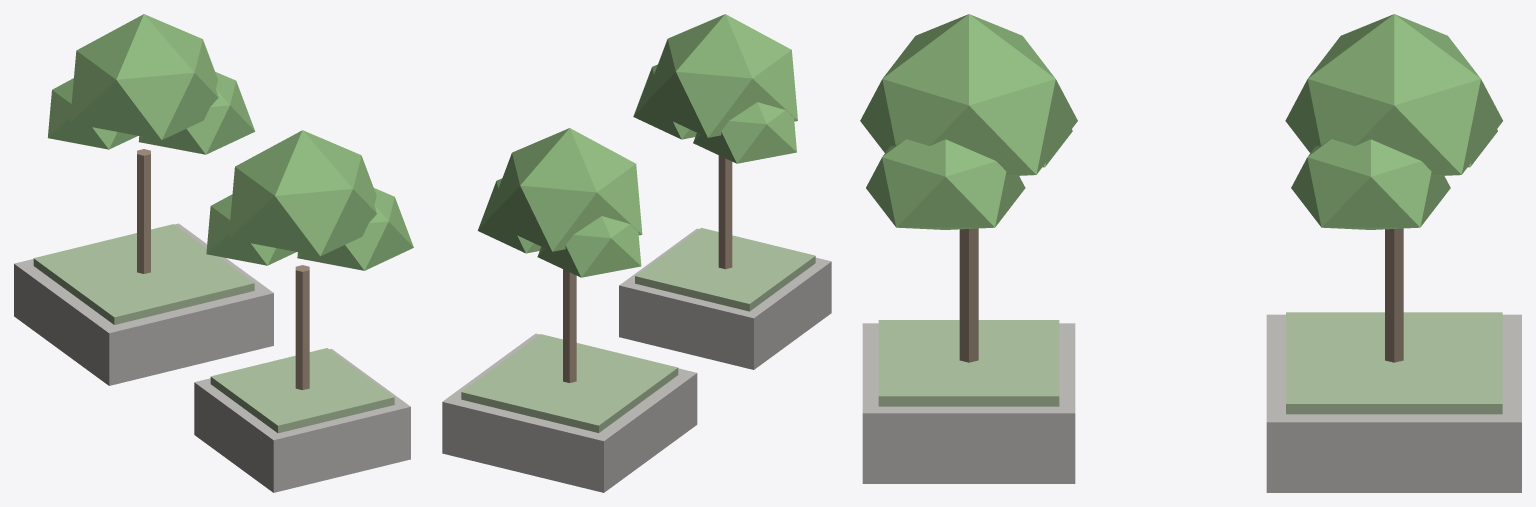
Rendered from 17_street_props-08.glb.
The picture shows the model from 3 angles, left to right: view 1: azimuth 30°, elevation 25°; view 2: azimuth 150°, elevation 25°; view 3: azimuth 270°, elevation 25°; orthographic projection. The views are drawn at different scales.
Bounding box in the file's own units: 1.84 × 3.31 × 4.67.
